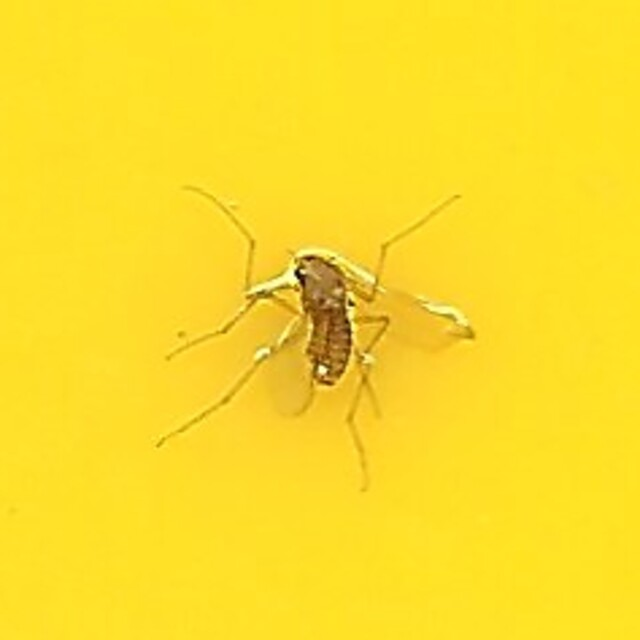Nematocera: (270, 247, 370, 393)
